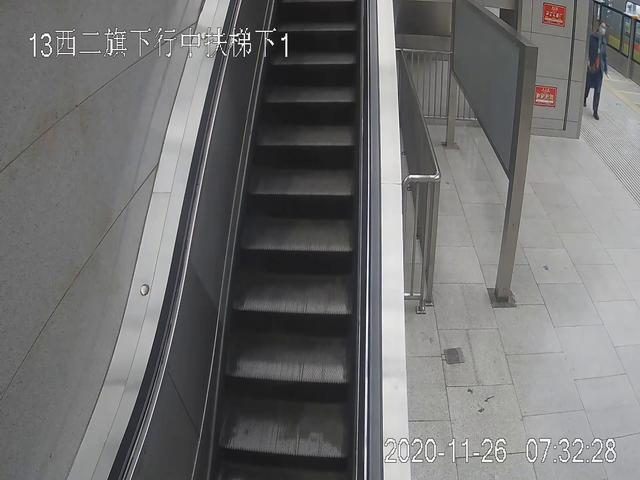person: (585, 22, 609, 120)
